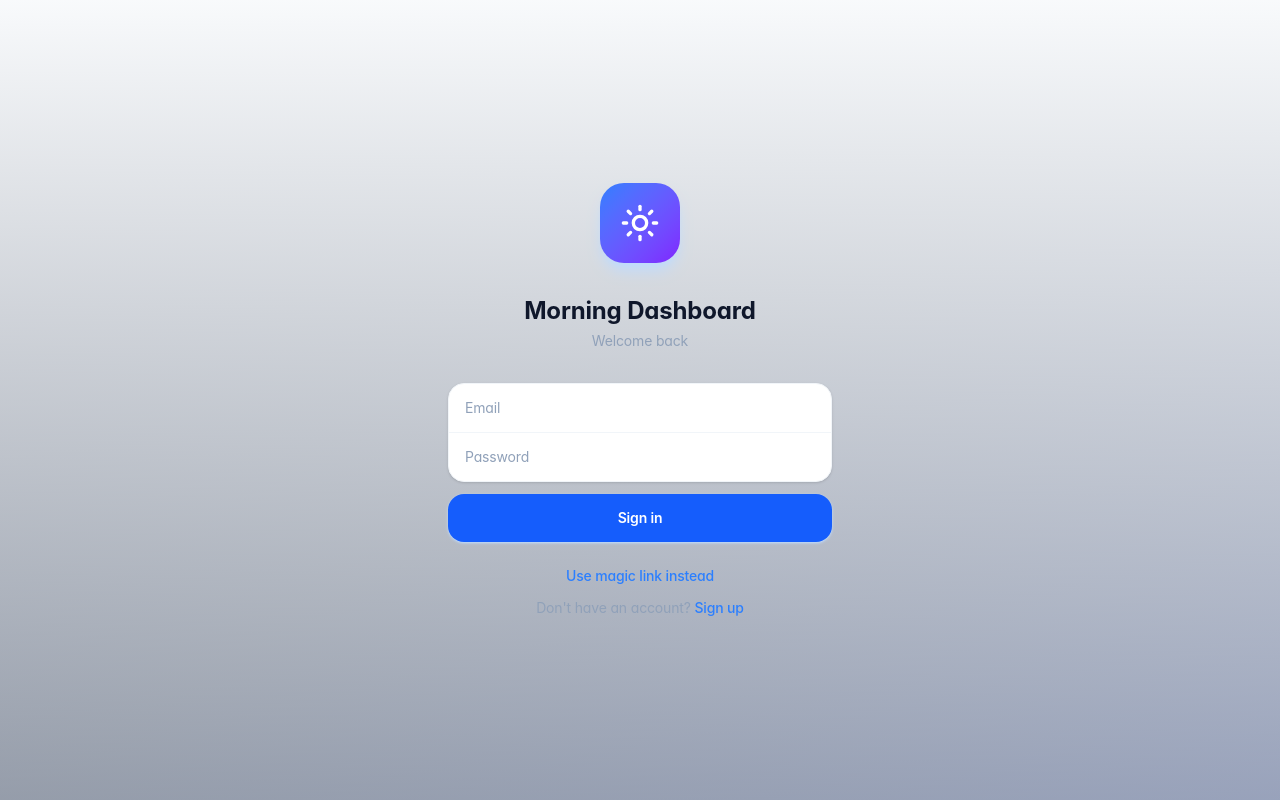
Test: Auth › switches to signup mode
Click the button "Don't have an account? Sign up" at point(640, 608), box [536,598,744,618]
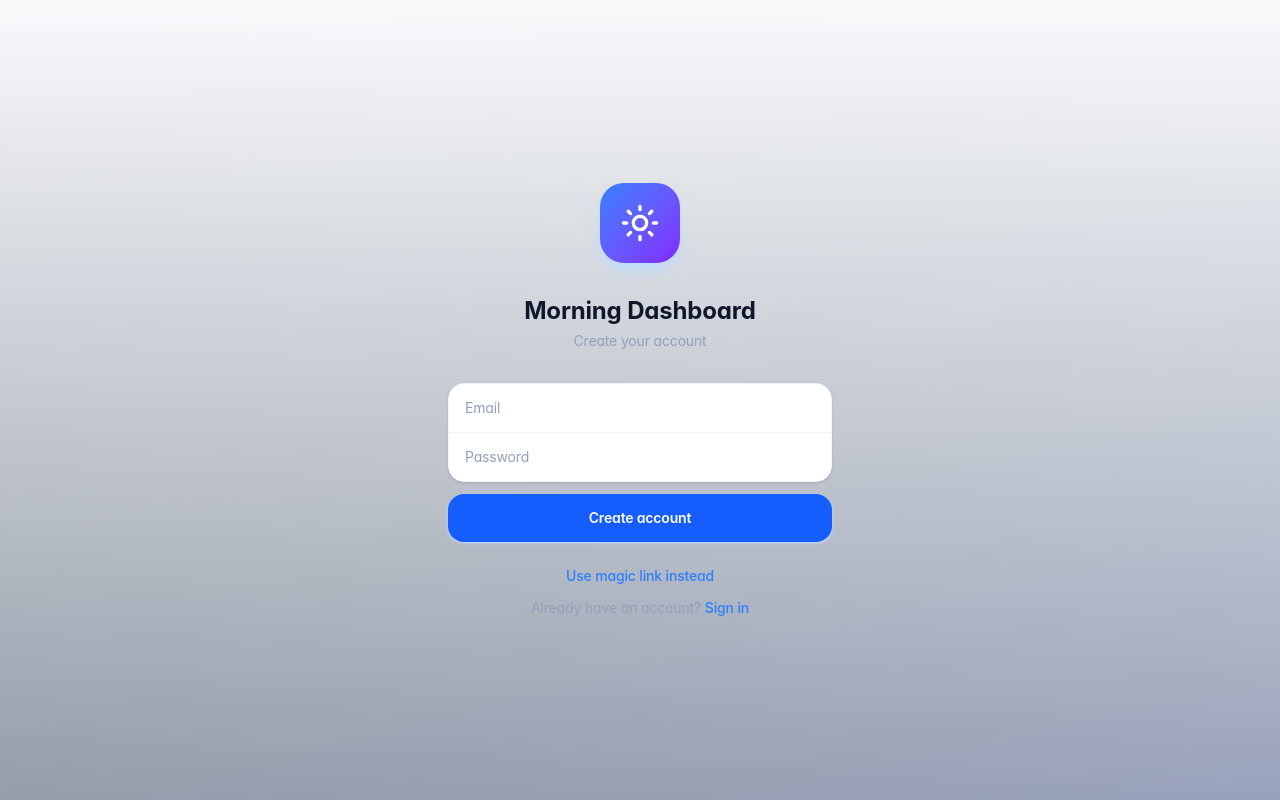
Expected: the text "Create your account" is shown, [574,332,707,348]
Expected: the button "Create account" is shown, [448,494,832,542]
